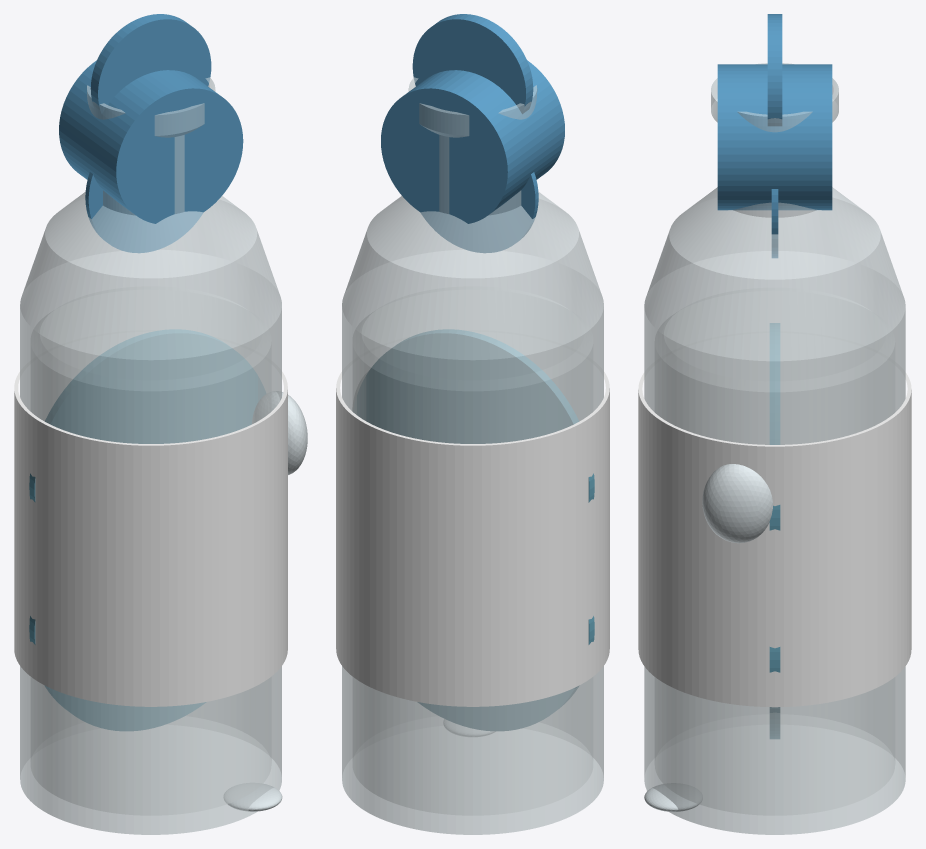
The model's file is botella_deformada.glb.
3 renders of one model, left to right at view 1: azimuth 30°, elevation 25°; view 2: azimuth 150°, elevation 25°; view 3: azimuth 270°, elevation 25°, orthographic.
Visible parts, largest first — view 1: deformada_3, deformada_0, deformada_1, deformada_2, deformada_4, deformada_5; view 2: deformada_3, deformada_0, deformada_1, deformada_2; view 3: deformada_0, deformada_3, deformada_1, deformada_2, deformada_4, deformada_5.
Boxes of the visible parts, bbox=[...] form: deformada_3: bbox=[14, 329, 287, 730]; deformada_0: bbox=[20, 77, 281, 834]; deformada_1: bbox=[31, 286, 271, 815]; deformada_2: bbox=[59, 14, 243, 253]; deformada_4: bbox=[252, 391, 307, 474]; deformada_5: bbox=[224, 783, 282, 811]; deformada_3: bbox=[336, 329, 609, 730]; deformada_0: bbox=[342, 77, 603, 834]; deformada_1: bbox=[353, 286, 592, 815]; deformada_2: bbox=[381, 14, 564, 253]; deformada_0: bbox=[644, 63, 905, 834]; deformada_3: bbox=[638, 323, 911, 738]; deformada_1: bbox=[655, 288, 894, 815]; deformada_2: bbox=[717, 14, 832, 258]; deformada_4: bbox=[702, 464, 772, 543]; deformada_5: bbox=[644, 783, 702, 811].
Size of the model in its own units: 4.42 by 12.83 by 4.18.
6 materials, 1 textured.
